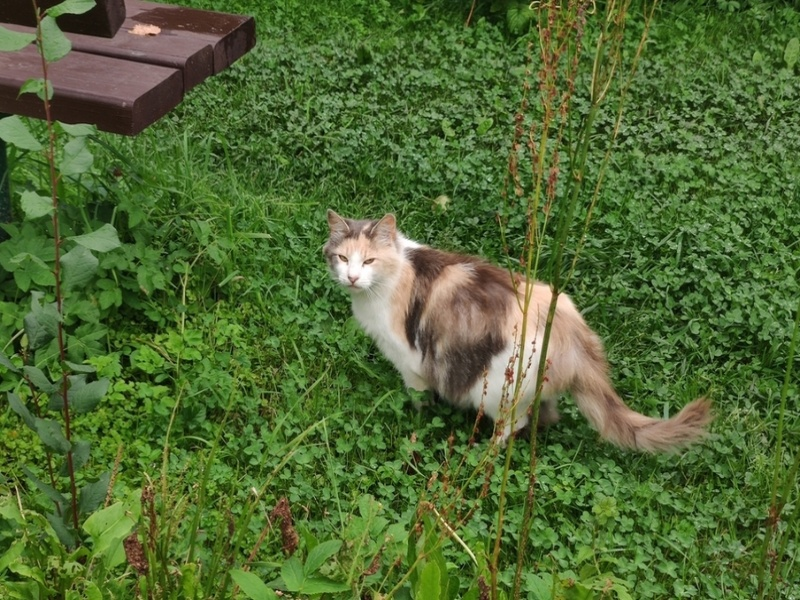cat: (318, 206, 718, 470)
